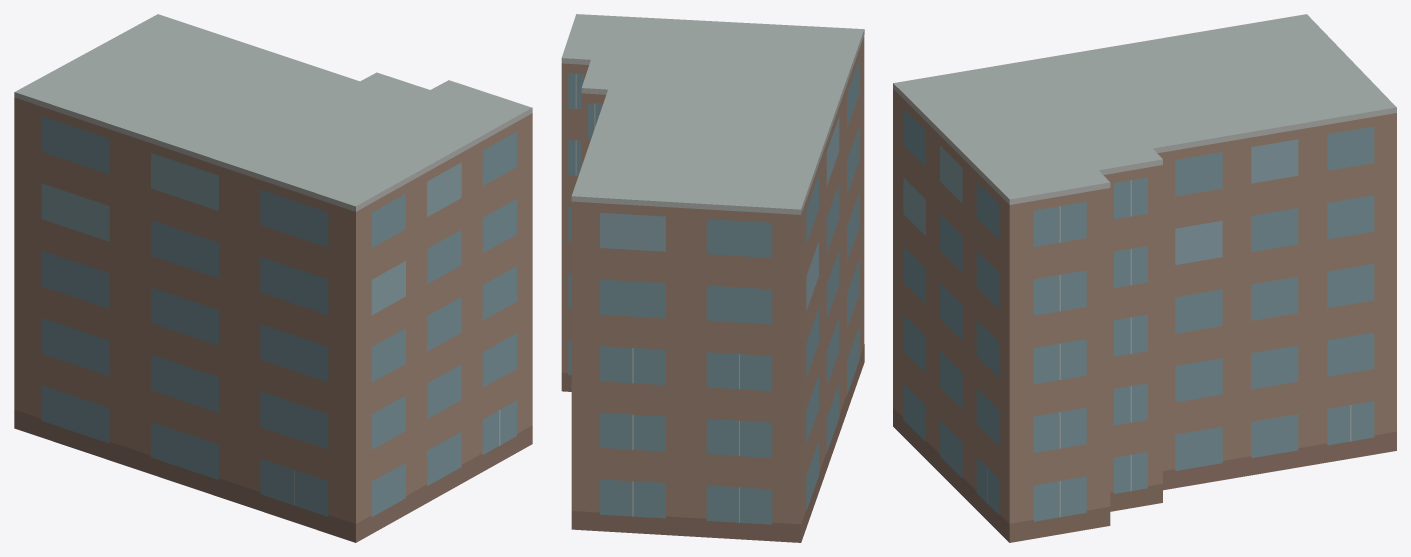
File: survey-upis-33012879.glb
The picture shows the model from 3 angles, left to right: view 1: azimuth 30°, elevation 25°; view 2: azimuth 150°, elevation 25°; view 3: azimuth 270°, elevation 25°; orthographic projection. The views are drawn at different scales.
Visible parts, largest first — view 1: survey-upis-33012879.tmp; view 2: survey-upis-33012879.tmp; view 3: survey-upis-33012879.tmp.
Boxes of the visible parts, left/top/right/bottom form: survey-upis-33012879.tmp: left=14, top=14, right=532, bottom=542; survey-upis-33012879.tmp: left=561, top=14, right=864, bottom=542; survey-upis-33012879.tmp: left=893, top=14, right=1396, bottom=542.
Bounding box in the file's own units: 17.68 × 15.25 × 20.29.
